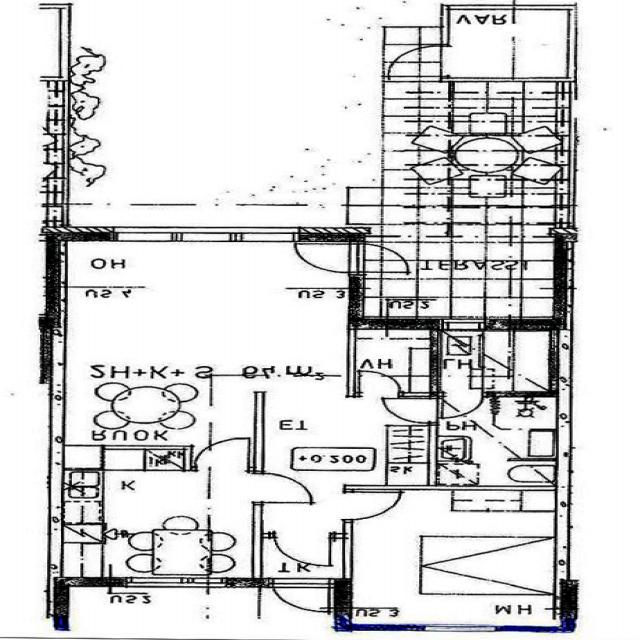door: (274, 577, 329, 616), (348, 244, 421, 272), (294, 244, 366, 272), (384, 46, 448, 76), (274, 533, 330, 567), (253, 473, 315, 502), (343, 491, 404, 519), (195, 439, 248, 470), (386, 399, 438, 422), (359, 371, 399, 397), (444, 391, 483, 417)
